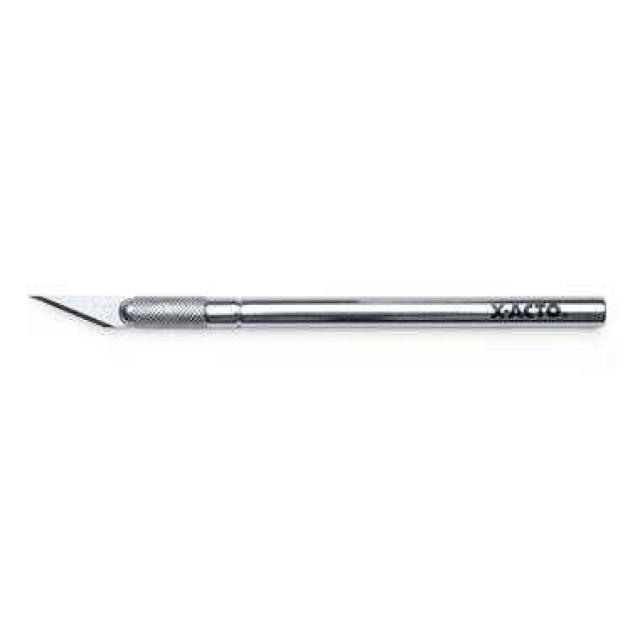Knife: (25, 283, 610, 346)
